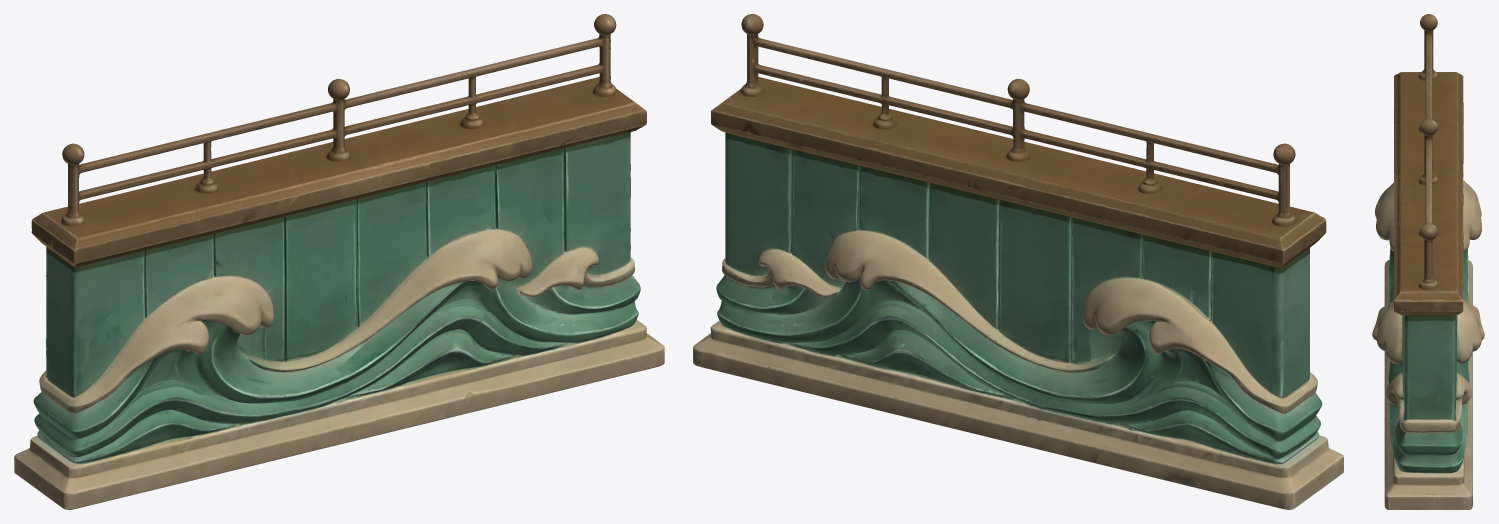
The model's file is act1_wave_wall_rodin.glb.
3 views of the same model, side by side, from view 1: azimuth 30°, elevation 25°; view 2: azimuth 150°, elevation 25°; view 3: azimuth 270°, elevation 25° (orthographic). The views are drawn at different scales.
Visible parts, largest first — view 1: model; view 2: model; view 3: model.
Boxes of the visible parts, bbox=[...] form: model: bbox=[14, 14, 664, 509]; model: bbox=[693, 14, 1343, 509]; model: bbox=[1372, 14, 1484, 509].
Bounding box in the file's own units: 1.86 × 1 × 0.373.
1 material, 1 textured.
